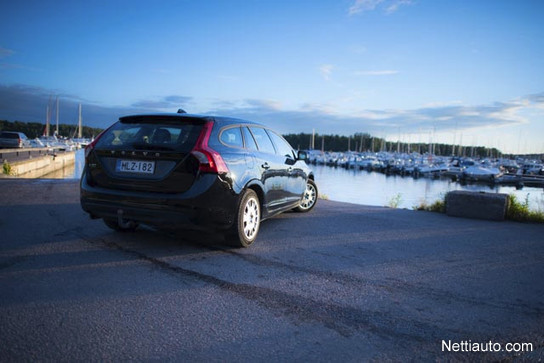car: (77, 111, 317, 248)
